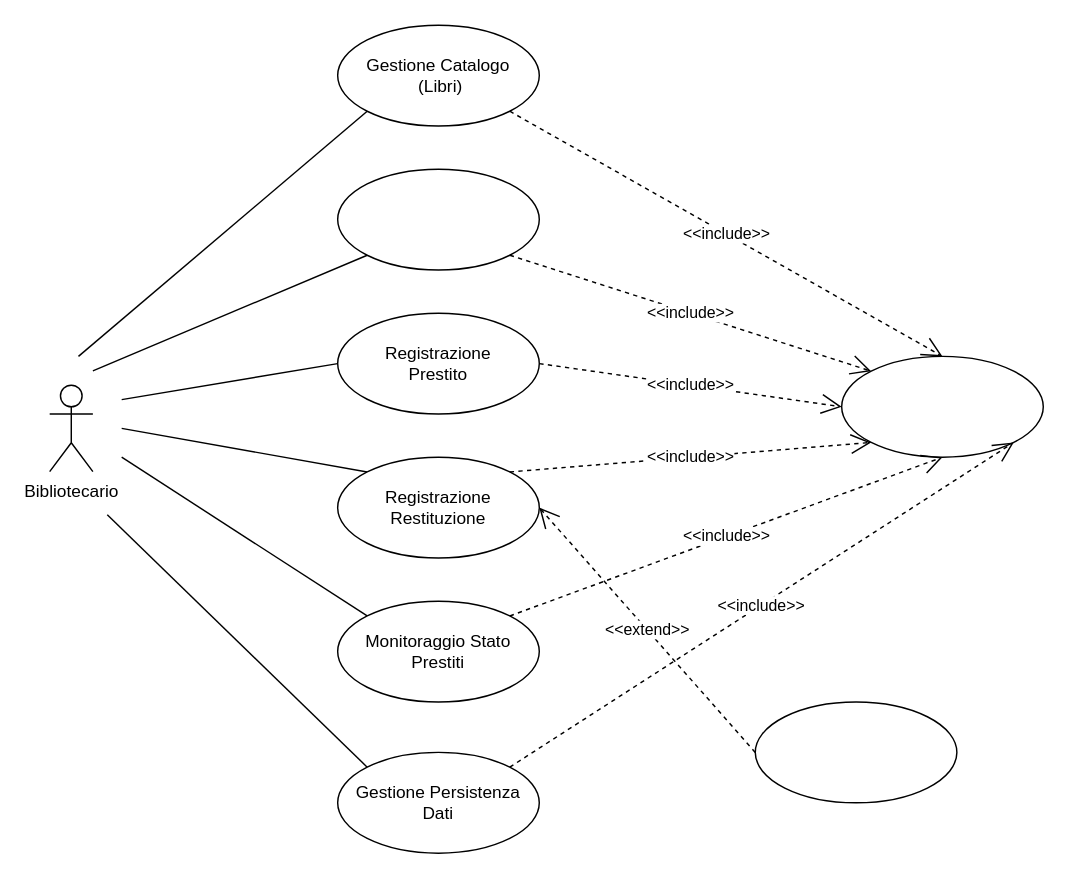
This 1068x878 diagram has some shape labels left out. Each missing label, with the centre of its shape:
Gestione Anagrafica (Utenti): point (437, 219)
Registra Tracciamento: point (941, 406)
Segnala Ritardo: point (855, 752)
